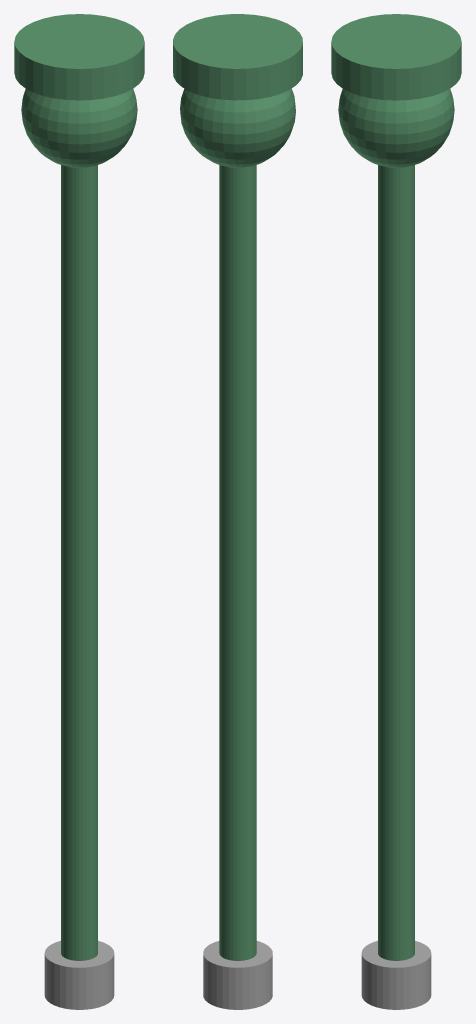
Rendered from prop_street_lamppost_lod0.gltf.
The picture shows the model from 3 angles, left to right: view 1: azimuth 90°, elevation 25°; view 2: azimuth 210°, elevation 25°; view 3: azimuth 270°, elevation 25°; orthographic projection.
Parts seen in each view (by area): view 1: prop_street_lamppost; view 2: prop_street_lamppost; view 3: prop_street_lamppost.
Boxes of the visible parts, x1,y1,x2,y2 form: prop_street_lamppost: (14, 14, 144, 1009); prop_street_lamppost: (173, 14, 302, 1009); prop_street_lamppost: (331, 14, 461, 1009).
Bounding box in the file's own units: 0.56 × 4.52 × 0.56.
